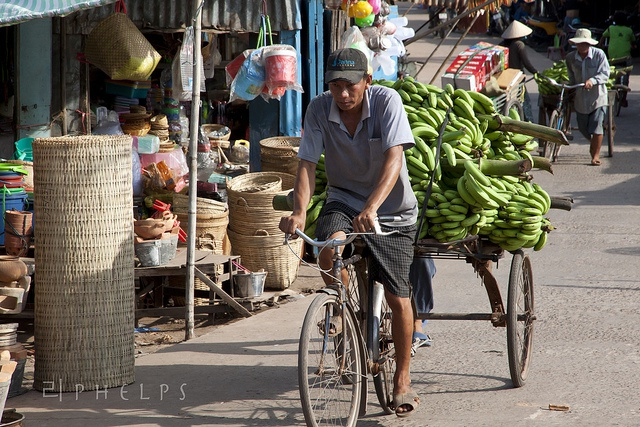non-vehicle: (294, 228, 393, 426), (540, 75, 584, 161)
